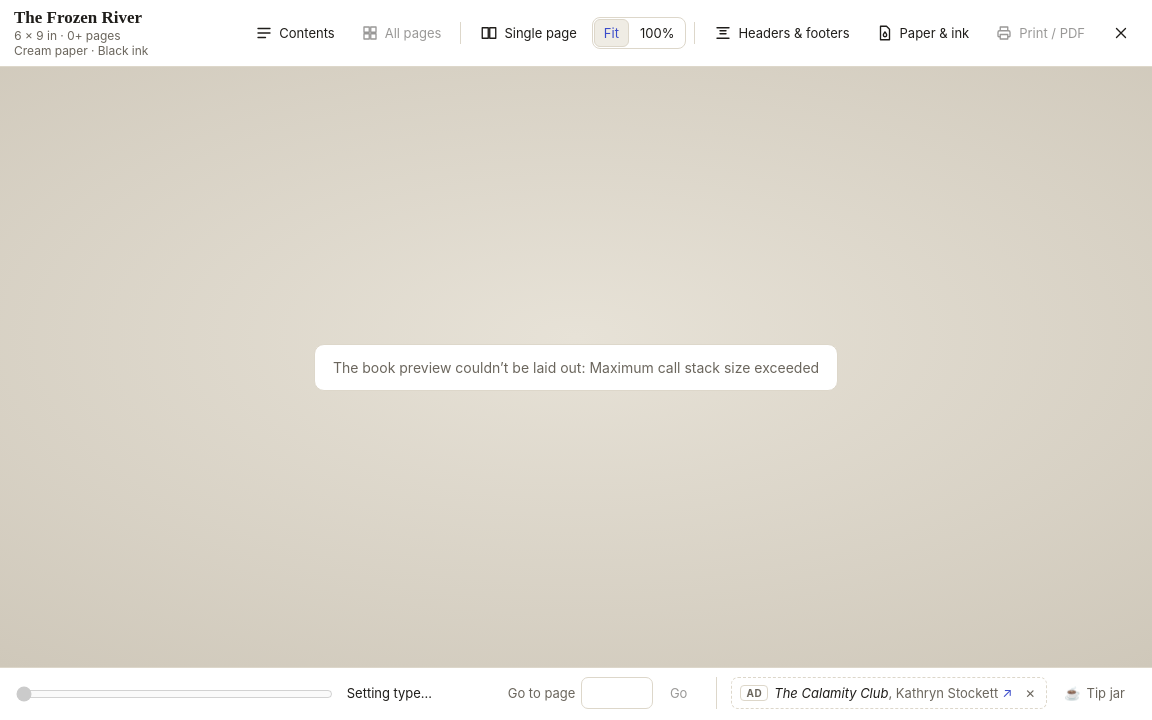
Test case: BookPreview › shows the book pick and tip jar; its reconsider dialog sits on top and Escape closes only that
Expected: the element named "Book pick (ad)" is shown, [731, 677, 1047, 709]
Expected: the link "☕ Tip jar" is shown, [1055, 677, 1136, 709]
Click the button named "Turn off book picks": [1030, 693] box [1018, 681, 1042, 705]
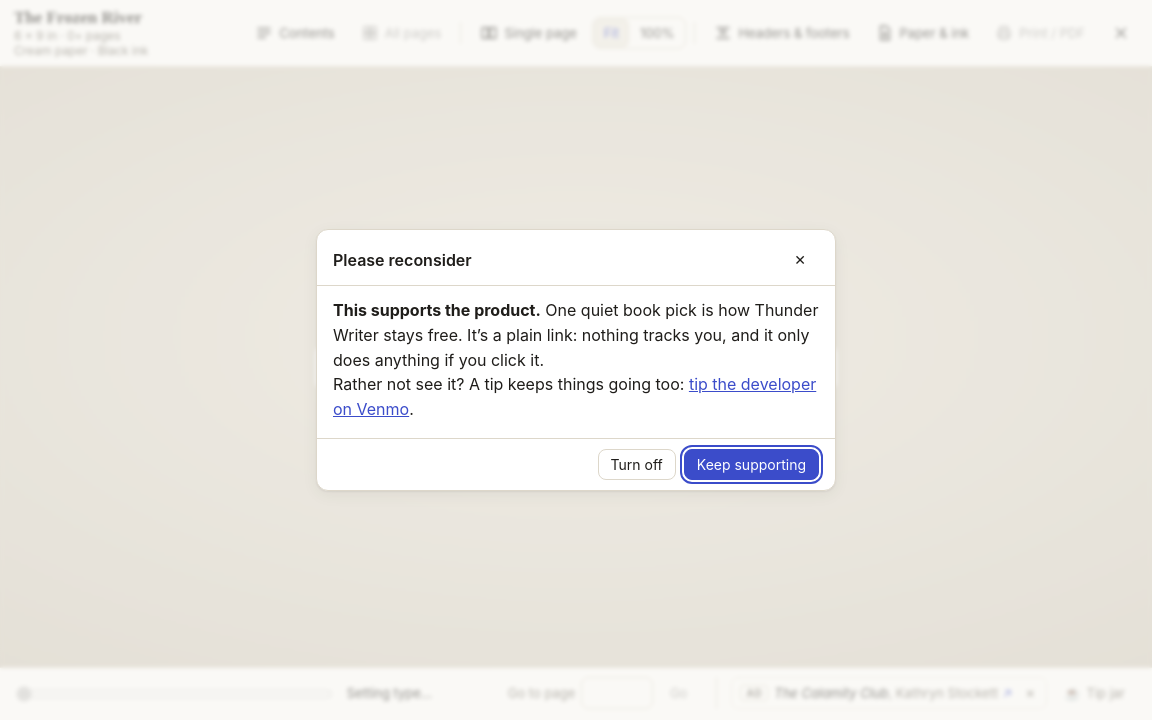
Press Escape
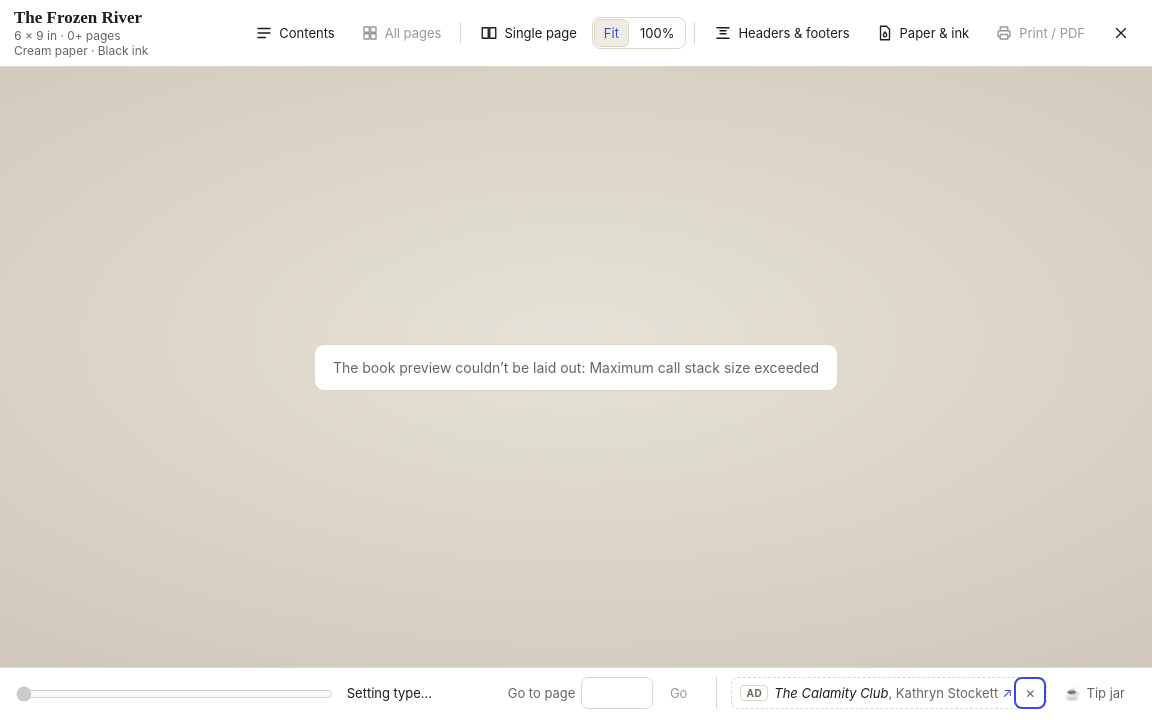
Result: the heading "Please reconsider" is gone
